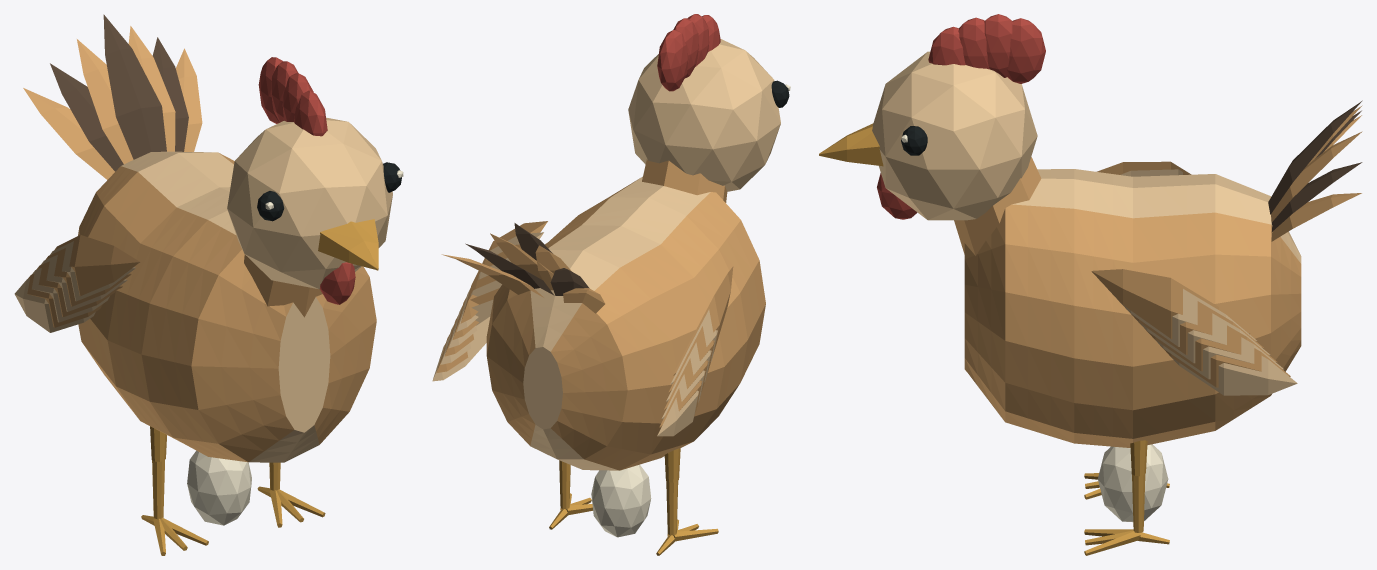
The model's file is chicken.glb.
3 views of the same model, side by side, from view 1: azimuth 30°, elevation 25°; view 2: azimuth 150°, elevation 25°; view 3: azimuth 270°, elevation 25° (orthographic). The views are drawn at different scales.
Parts seen in each view (by area): view 1: Body_mesh, Head_mesh, Tail_mesh, Wing_mesh, Comb_mesh, Egg_mesh, Foot.001_mesh, Foot_mesh, LowerLeg_mesh, Eye_mesh, UpperLeg_mesh; view 2: Body_mesh, Head_mesh, Tail_mesh, Wing_mesh, Wing.001_mesh, Egg_mesh, Comb_mesh, Foot_mesh, LowerLeg_mesh, LowerLeg.001_mesh, Foot.001_mesh, UpperLeg_mesh; view 3: Body_mesh, Head_mesh, Wing.001_mesh, Comb_mesh, Tail_mesh, Egg_mesh, Foot.001_mesh, Wing_mesh, LowerLeg.001_mesh.
Boxes of the visible parts, bbox=[...] form: Body_mesh: bbox=[78, 151, 376, 462]; Head_mesh: bbox=[227, 117, 392, 317]; Tail_mesh: bbox=[23, 14, 202, 179]; Wing_mesh: bbox=[14, 235, 139, 332]; Comb_mesh: bbox=[258, 57, 355, 304]; Egg_mesh: bbox=[187, 450, 251, 525]; Foot.001_mesh: bbox=[257, 486, 325, 527]; Foot_mesh: bbox=[141, 515, 208, 555]; LowerLeg_mesh: bbox=[152, 460, 164, 519]; Eye_mesh: bbox=[257, 191, 284, 221]; UpperLeg_mesh: bbox=[150, 426, 166, 461]; Body_mesh: bbox=[486, 176, 765, 470]; Head_mesh: bbox=[628, 39, 780, 202]; Tail_mesh: bbox=[441, 223, 605, 313]; Wing_mesh: bbox=[657, 266, 733, 436]; Wing.001_mesh: bbox=[432, 221, 547, 381]; Egg_mesh: bbox=[591, 464, 651, 537]; Comb_mesh: bbox=[657, 14, 720, 91]; Foot_mesh: bbox=[656, 519, 718, 555]; LowerLeg_mesh: bbox=[666, 481, 678, 535]; LowerLeg.001_mesh: bbox=[559, 460, 570, 509]; Foot.001_mesh: bbox=[549, 493, 592, 529]; UpperLeg_mesh: bbox=[664, 448, 680, 482]; Body_mesh: bbox=[964, 169, 1301, 447]; Head_mesh: bbox=[819, 51, 1041, 255]; Wing.001_mesh: bbox=[1091, 269, 1297, 395]; Comb_mesh: bbox=[877, 14, 1045, 219]; Tail_mesh: bbox=[1268, 100, 1362, 241]; Egg_mesh: bbox=[1098, 444, 1168, 522]; Foot.001_mesh: bbox=[1084, 529, 1169, 555]; Wing_mesh: bbox=[1096, 161, 1191, 176]; LowerLeg.001_mesh: bbox=[1132, 474, 1145, 532].
Bounding box in the file's own units: 0.528 × 1 × 0.97.
